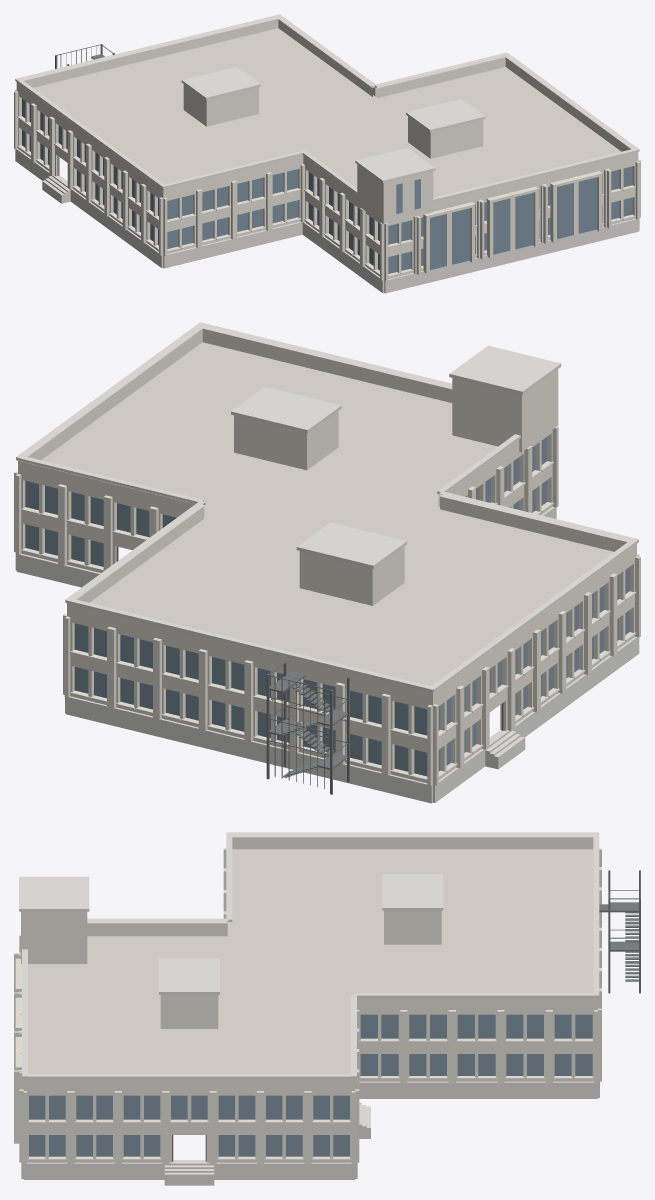
Rendered from Annapurna_Mess.fbx.
The picture shows the model from 3 angles, top to bottom: view 1: azimuth 30°, elevation 25°; view 2: azimuth 150°, elevation 25°; view 3: azimuth 270°, elevation 25°; orthographic projection. The views are drawn at different scales.
Visible parts, largest first — view 1: Annapurna_Mess; view 2: Annapurna_Mess; view 3: Annapurna_Mess.
Boxes of the visible parts, <box> form: Annapurna_Mess: <box>14,14,640,293</box>; Annapurna_Mess: <box>14,322,640,803</box>; Annapurna_Mess: <box>14,832,640,1185</box>.
Size of the model in its own units: 47.46 by 12.45 by 49.13.
